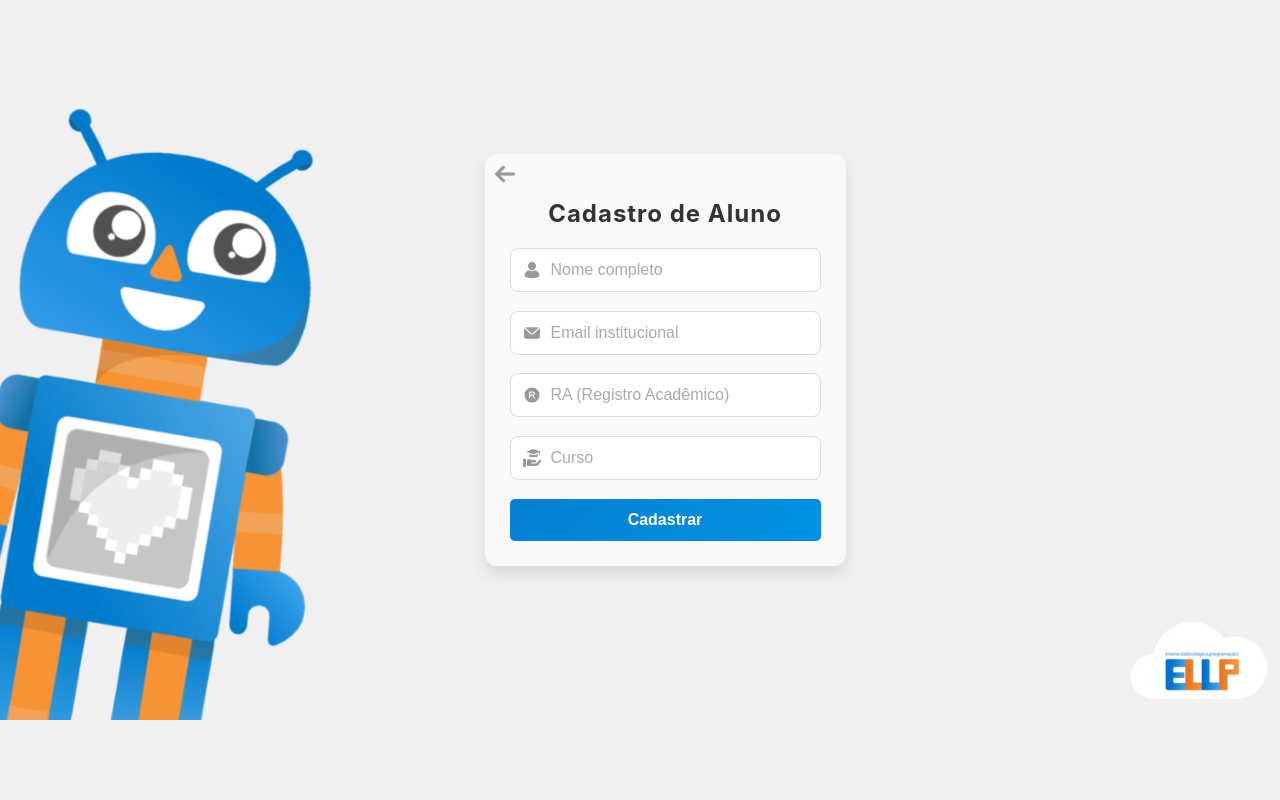
CadastroAluno › Deve permitir o cadastro do aluno com sucesso
Preenche os campos do formulário com dados válidos para o cadastro
Type "Maria Oliveira" into the field with placeholder "Nome completo". click: (680, 270)
box: [551,261,808,279]
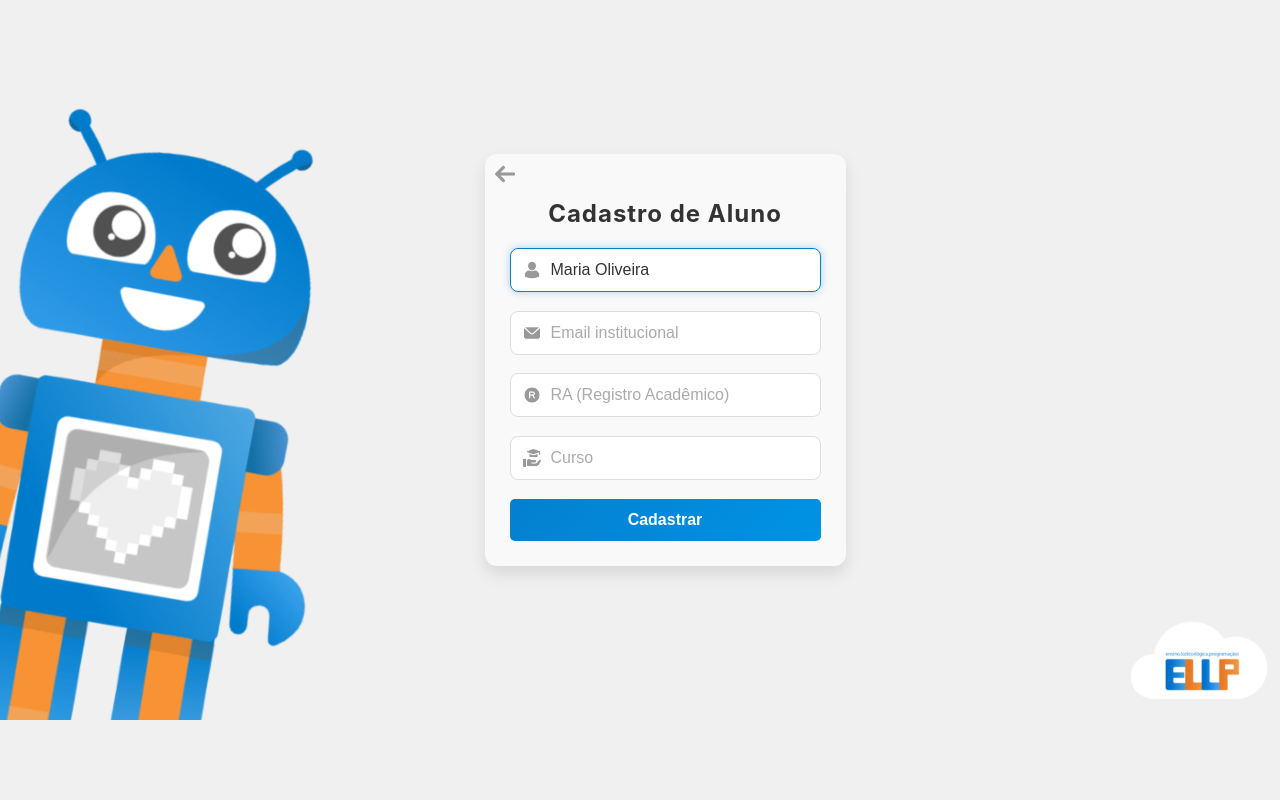
Type "maria.oliveira@exemplo.com" into the field with placeholder "Email institucional". click: (680, 333)
box: [551,324,808,342]
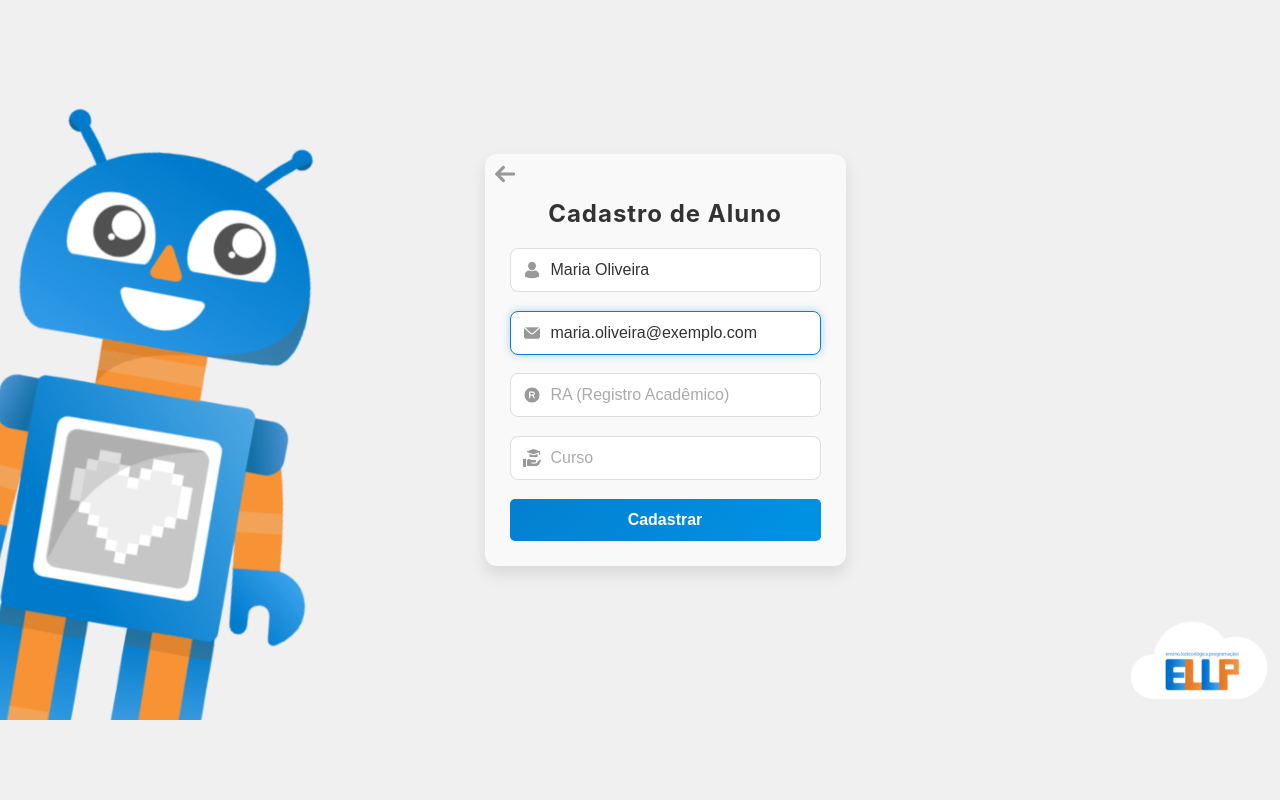
Type "789012" into the field with placeholder "RA (Registro Acadêmico)". click: (680, 396)
box: [551,387,808,405]
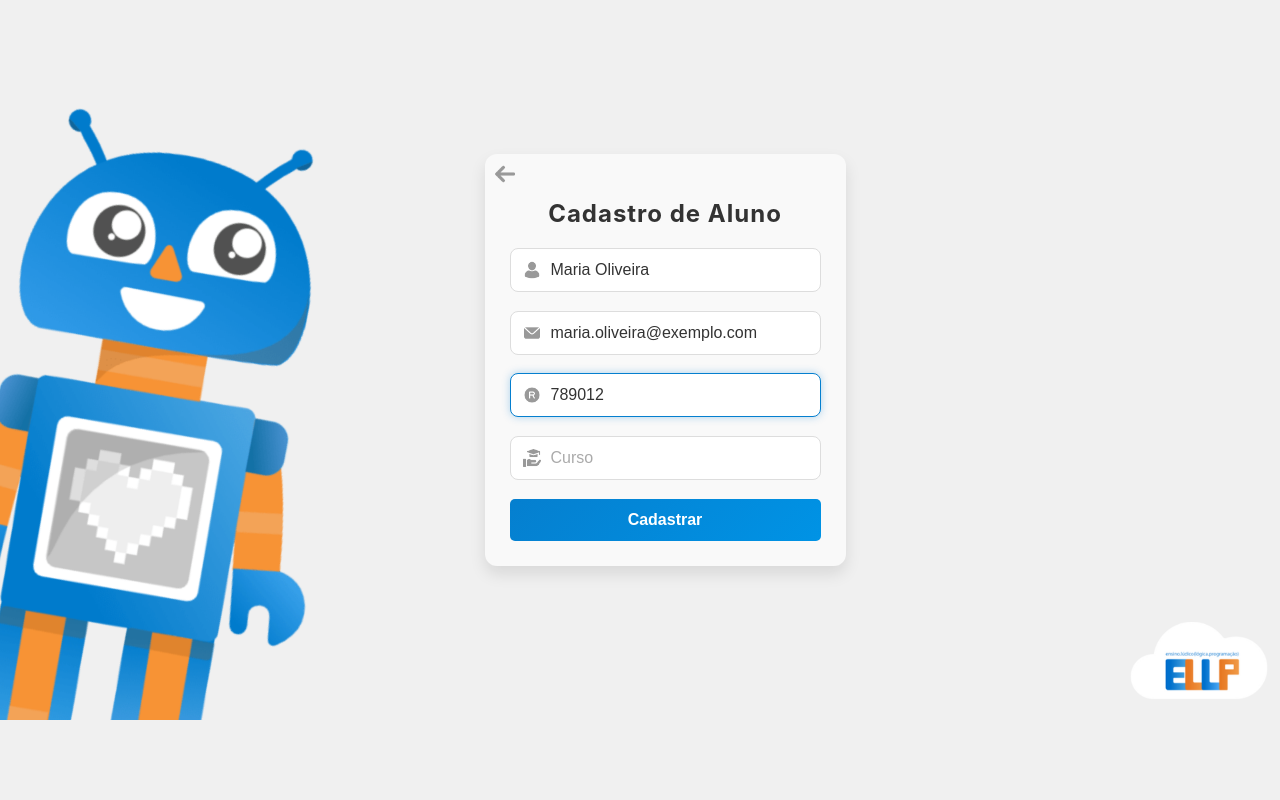
Type "Engenharia de Software" into the field with placeholder "Curso". click: (680, 458)
box: [551,449,808,467]
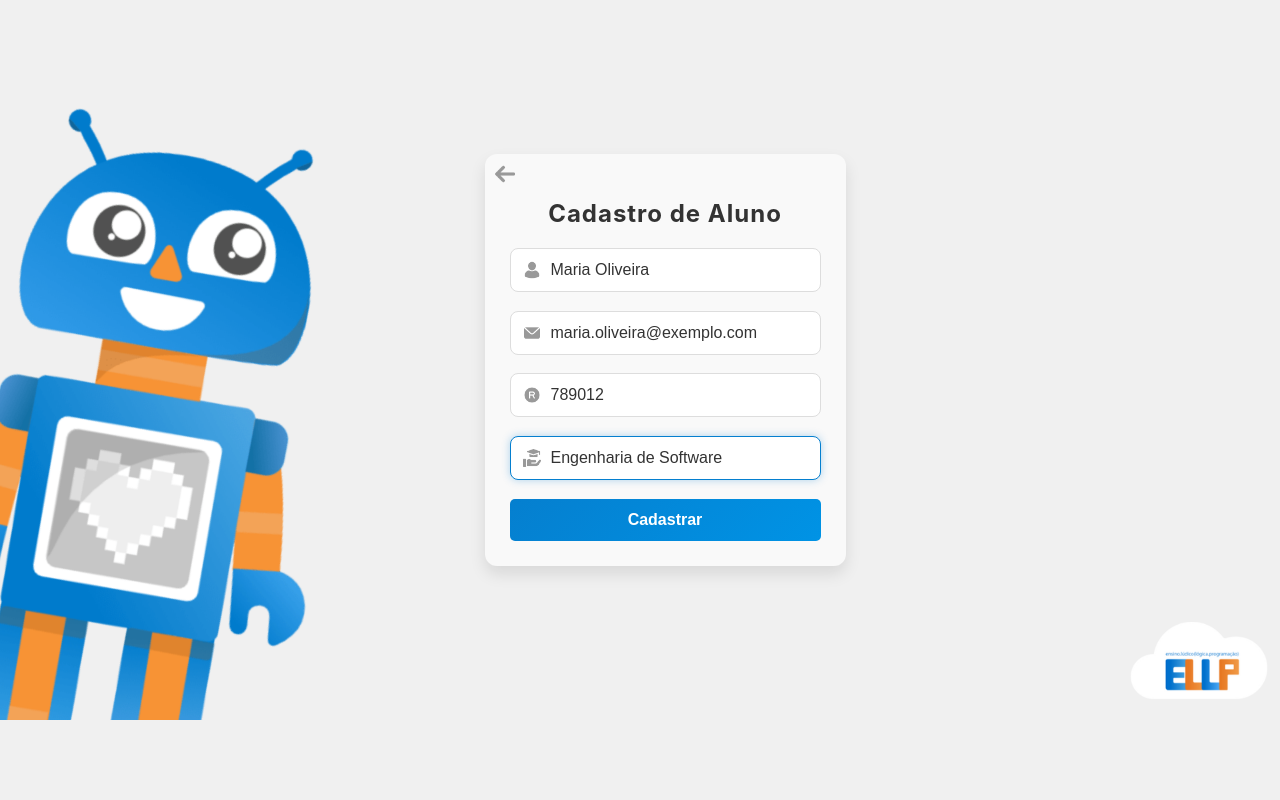
Clica no botão de cadastro
Click the button with class "cadastro-button". click: (666, 520)
box: [510,499,821,541]
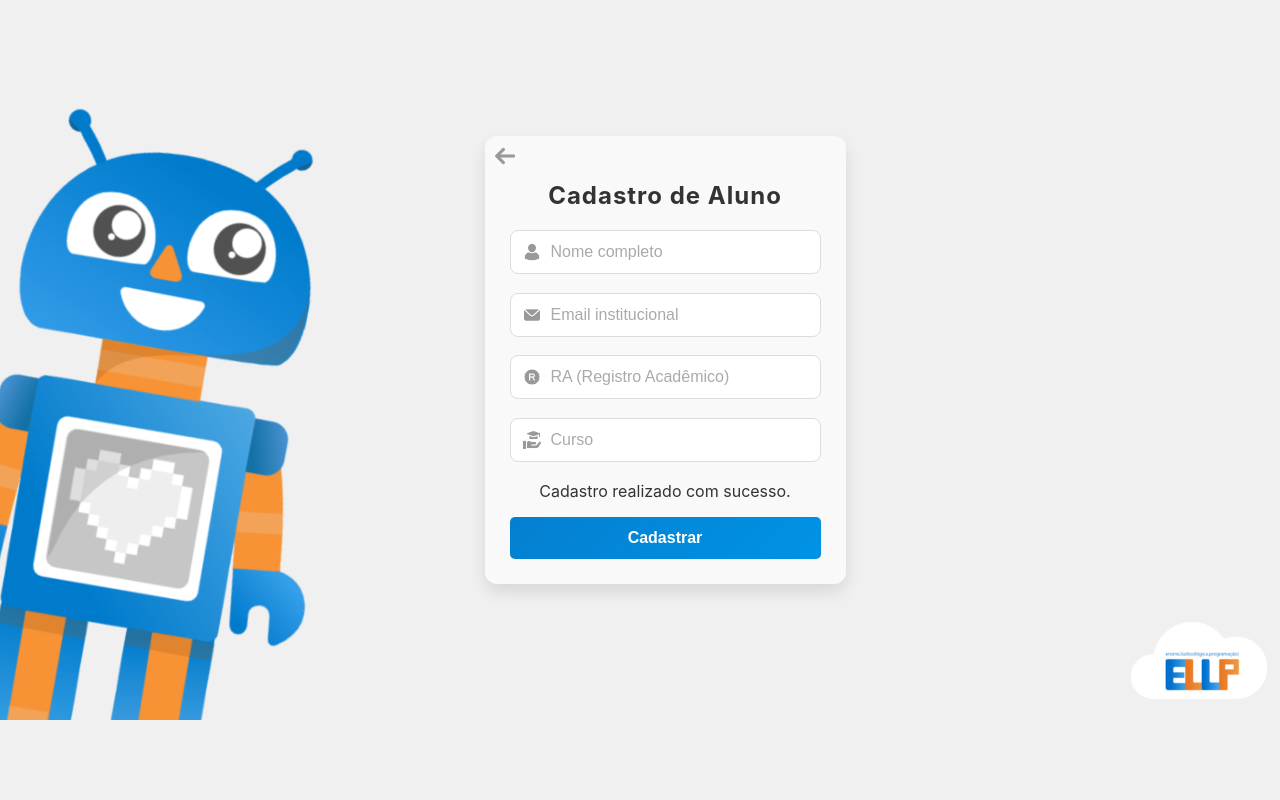
Now the text with class "success-message" shows "Cadastro realizado com sucesso", box [539,481,790,501]
